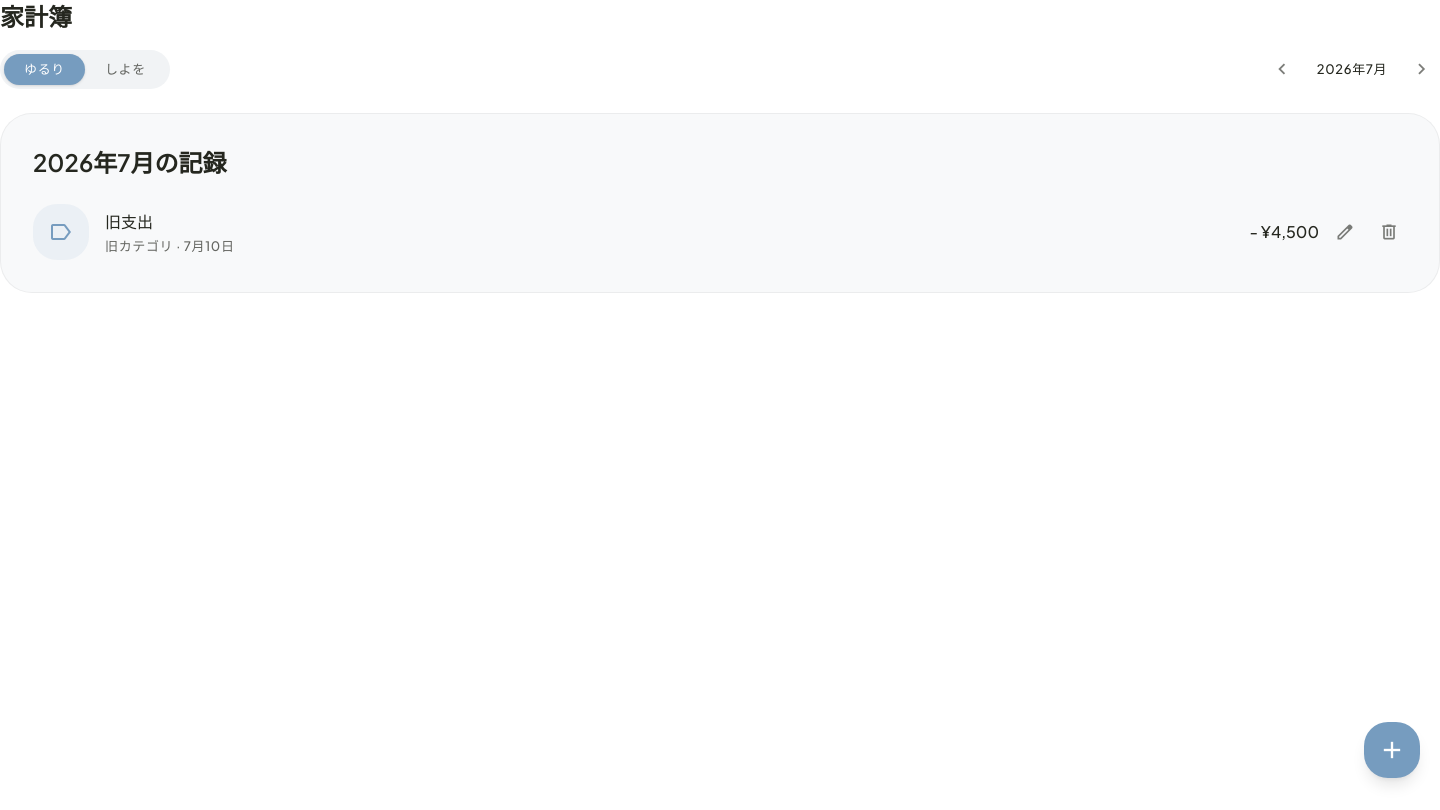
Test: LedgerPage 統合 › 編集: アーカイブ済カテゴリでも選択肢に残り現在値が表示される
This screenshot has width=1440, height=810.
Click the button named "編集".
click(1345, 232)  # box [1327,214,1363,250]
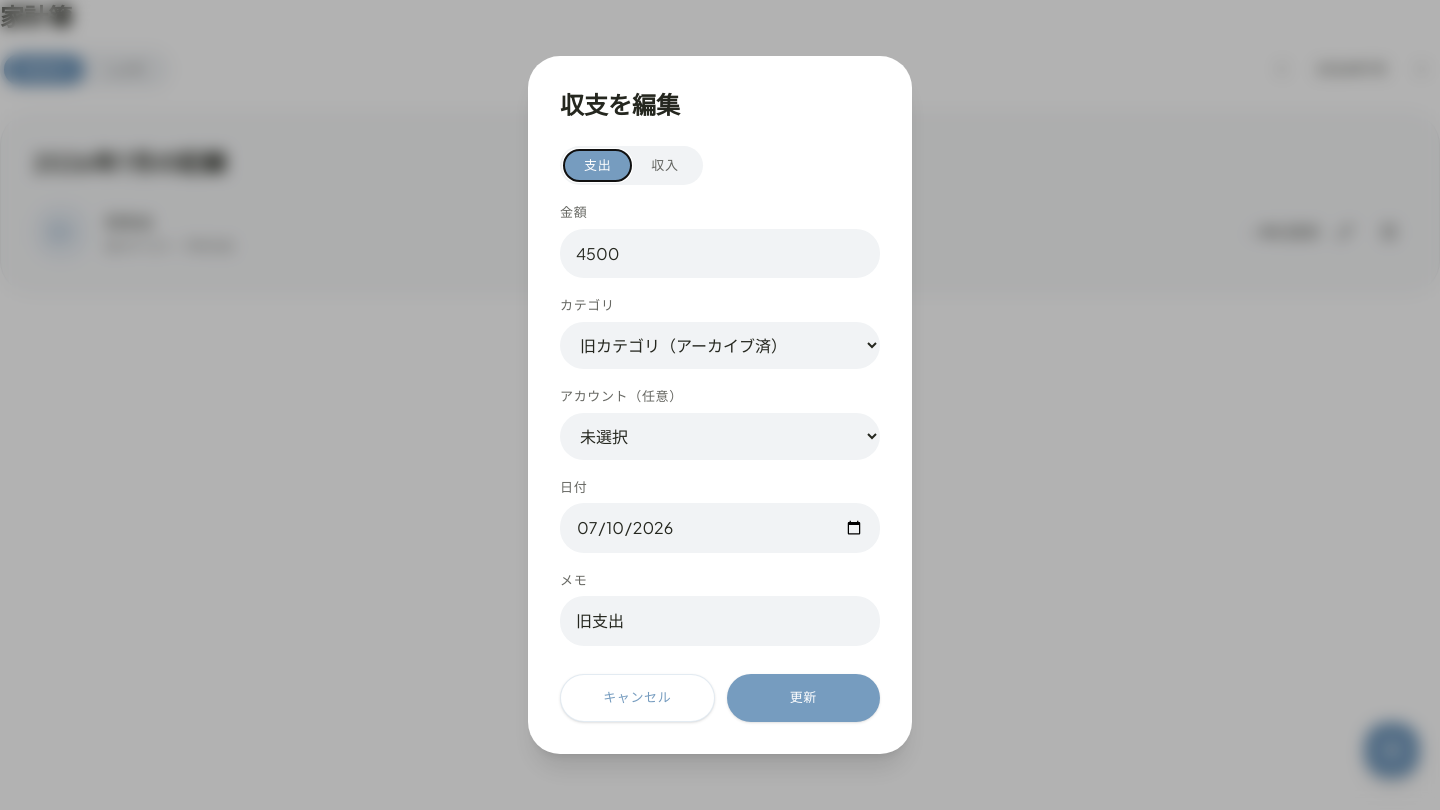
Check: the dropdown labelled "カテゴリ" shows "旧カテゴリ（アーカイブ済）", box [560,322,880,369]
